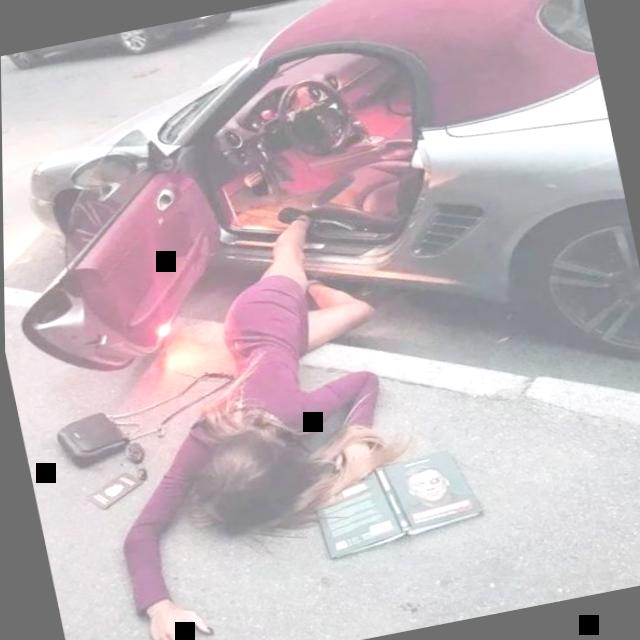Fall-Detected: (43, 184, 456, 640)
